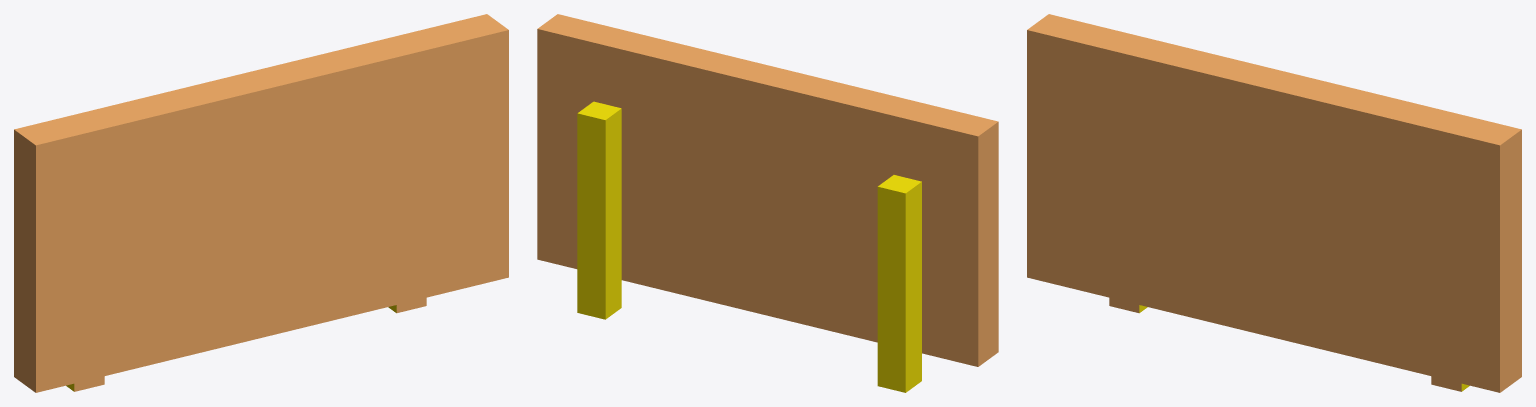
File: billboardLower.glb
3 renders of one model, left to right at view 1: azimuth 30°, elevation 25°; view 2: azimuth 150°, elevation 25°; view 3: azimuth 330°, elevation 25°, orthographic. The views are drawn at different scales.
Parts seen in each view (by area): view 1: billboardLower(Clone); view 2: billboardLower(Clone); view 3: billboardLower(Clone).
Boxes of the visible parts, <box> form: billboardLower(Clone): <box>14,14,508,392</box>; billboardLower(Clone): <box>537,14,998,392</box>; billboardLower(Clone): <box>1027,14,1521,392</box>.
Bounding box in the file's own units: 0.5 × 0.28 × 0.0719.
